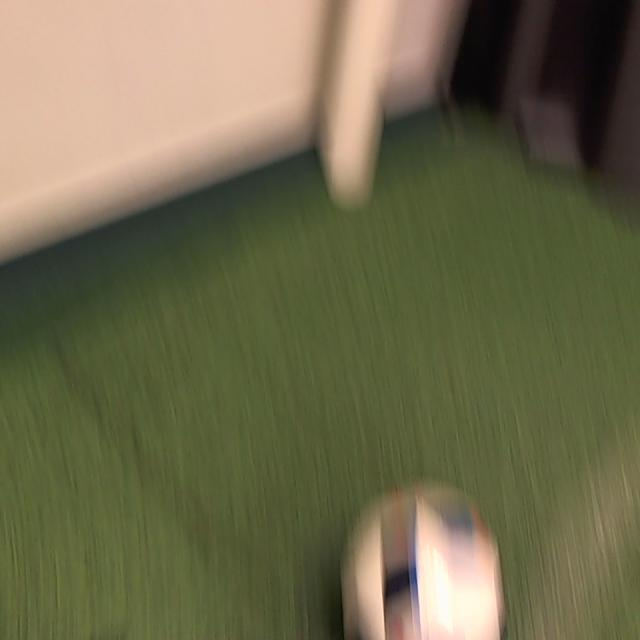ball: (337, 482, 502, 640)
goalpost: (327, 4, 391, 198)
